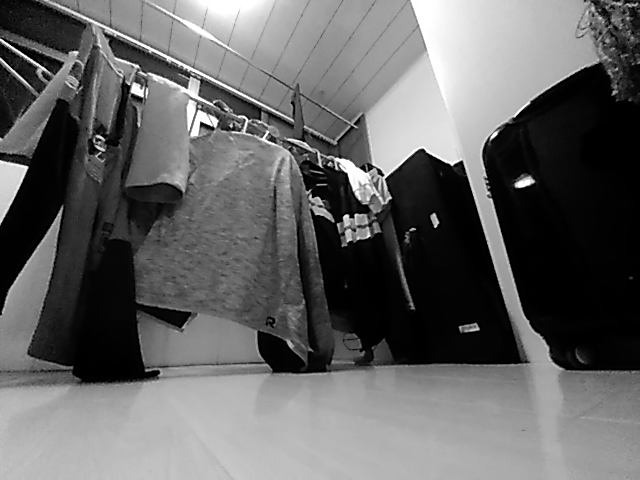others: (26, 325, 161, 383), (254, 323, 335, 376)
